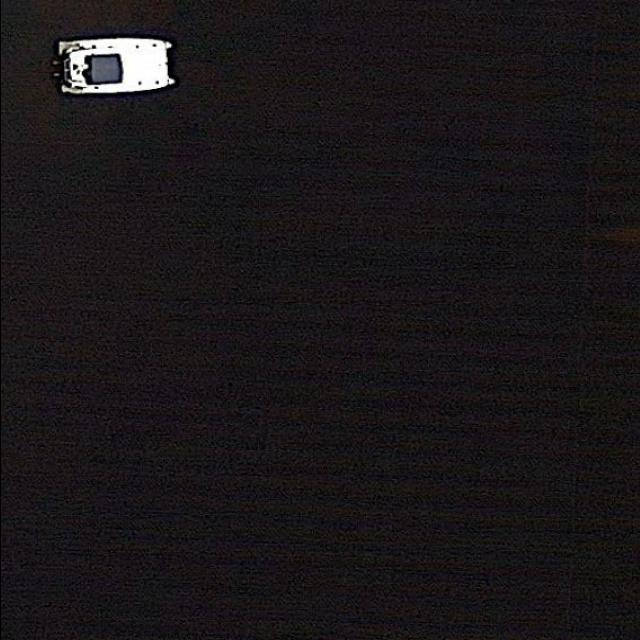ship: (50, 36, 178, 96)
